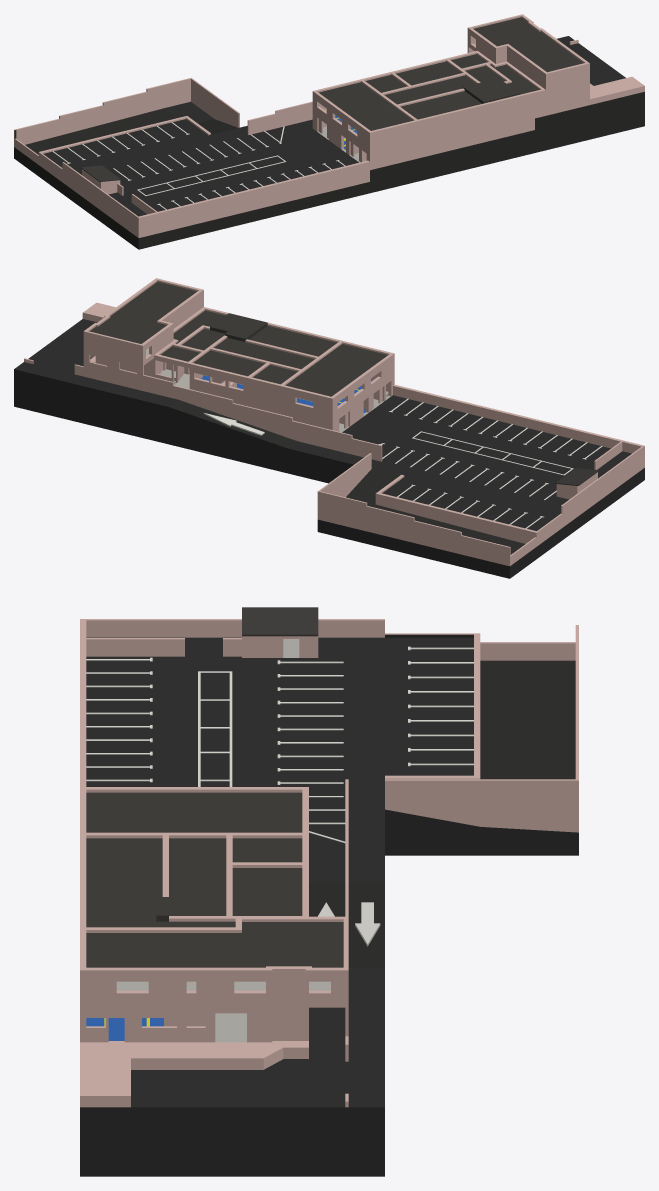
Rendered from mam_v2_0_3.glb.
The picture shows the model from 3 angles, top to bottom: view 1: azimuth 30°, elevation 25°; view 2: azimuth 150°, elevation 25°; view 3: azimuth 270°, elevation 25°; orthographic projection. The views are drawn at different scales.
Parts seen in each view (by area): view 1: parking, masjid_roof, masjid_ground_floor, masjid_first_floor; view 2: parking, masjid_ground_floor, masjid_roof, masjid_first_floor; view 3: parking, masjid_roof, masjid_ground_floor, masjid_first_floor.
Part boxes in pixels (x1,y1,x2,y2): parking: (14, 77, 369, 249); masjid_roof: (312, 14, 589, 135); masjid_ground_floor: (303, 36, 644, 193); masjid_first_floor: (312, 82, 589, 154); parking: (312, 384, 644, 578); masjid_ground_floor: (14, 302, 394, 479); masjid_roof: (83, 278, 394, 401); masjid_first_floor: (95, 356, 394, 421); parking: (80, 607, 578, 861); masjid_roof: (80, 787, 348, 1007); masjid_ground_floor: (80, 827, 384, 1176); masjid_first_floor: (80, 1006, 308, 1042).
Size of the model in its own units: 81.13 by 11.69 by 34.61.
